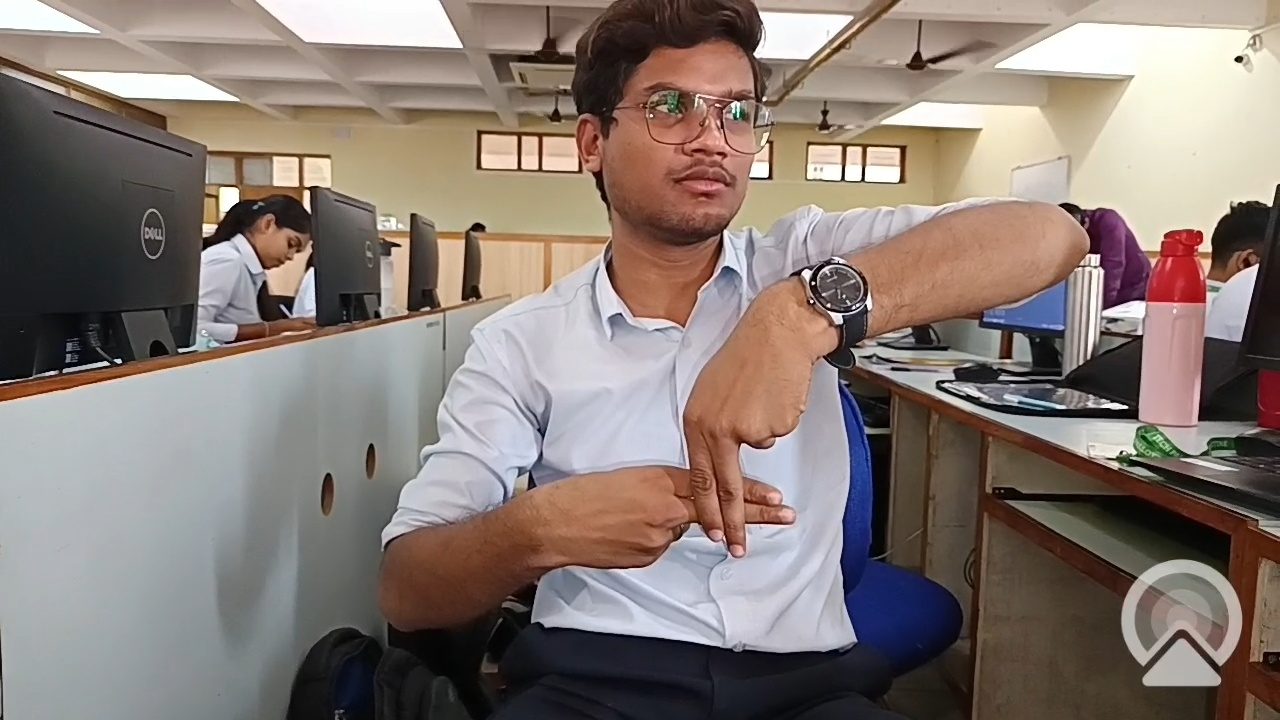F: (542, 294, 877, 580)
